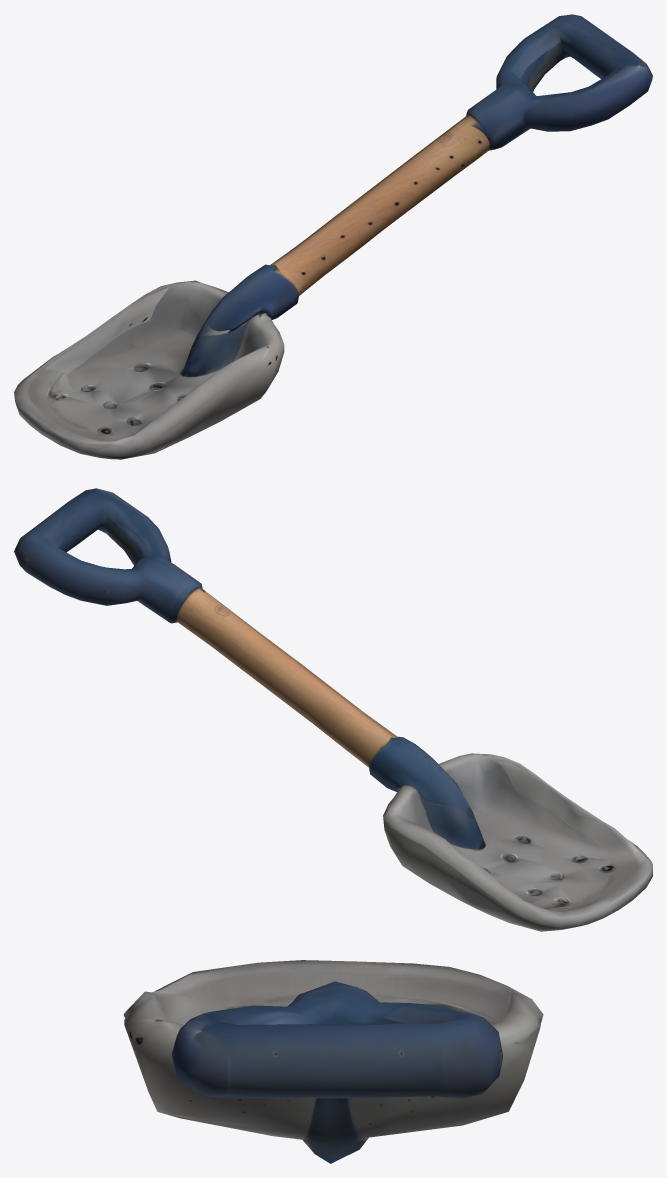
Rendered from Sifter_Shovel_Illustr_0815073251_texture.fbx.
3 views of the same model, one above another, from view 1: azimuth 30°, elevation 25°; view 2: azimuth 150°, elevation 25°; view 3: azimuth 270°, elevation 25° (orthographic). The views are drawn at different scales.
Parts seen in each view (by area): view 1: input; view 2: input; view 3: input.
Part boxes in pixels (box(x1,y1,x2,y2)): input: box(14, 14, 652, 459); input: box(14, 488, 652, 931); input: box(123, 960, 543, 1163).
Bounding box in the file's own units: 199 × 85.39 × 62.33.
Materials: 1 (1 with a texture image).
